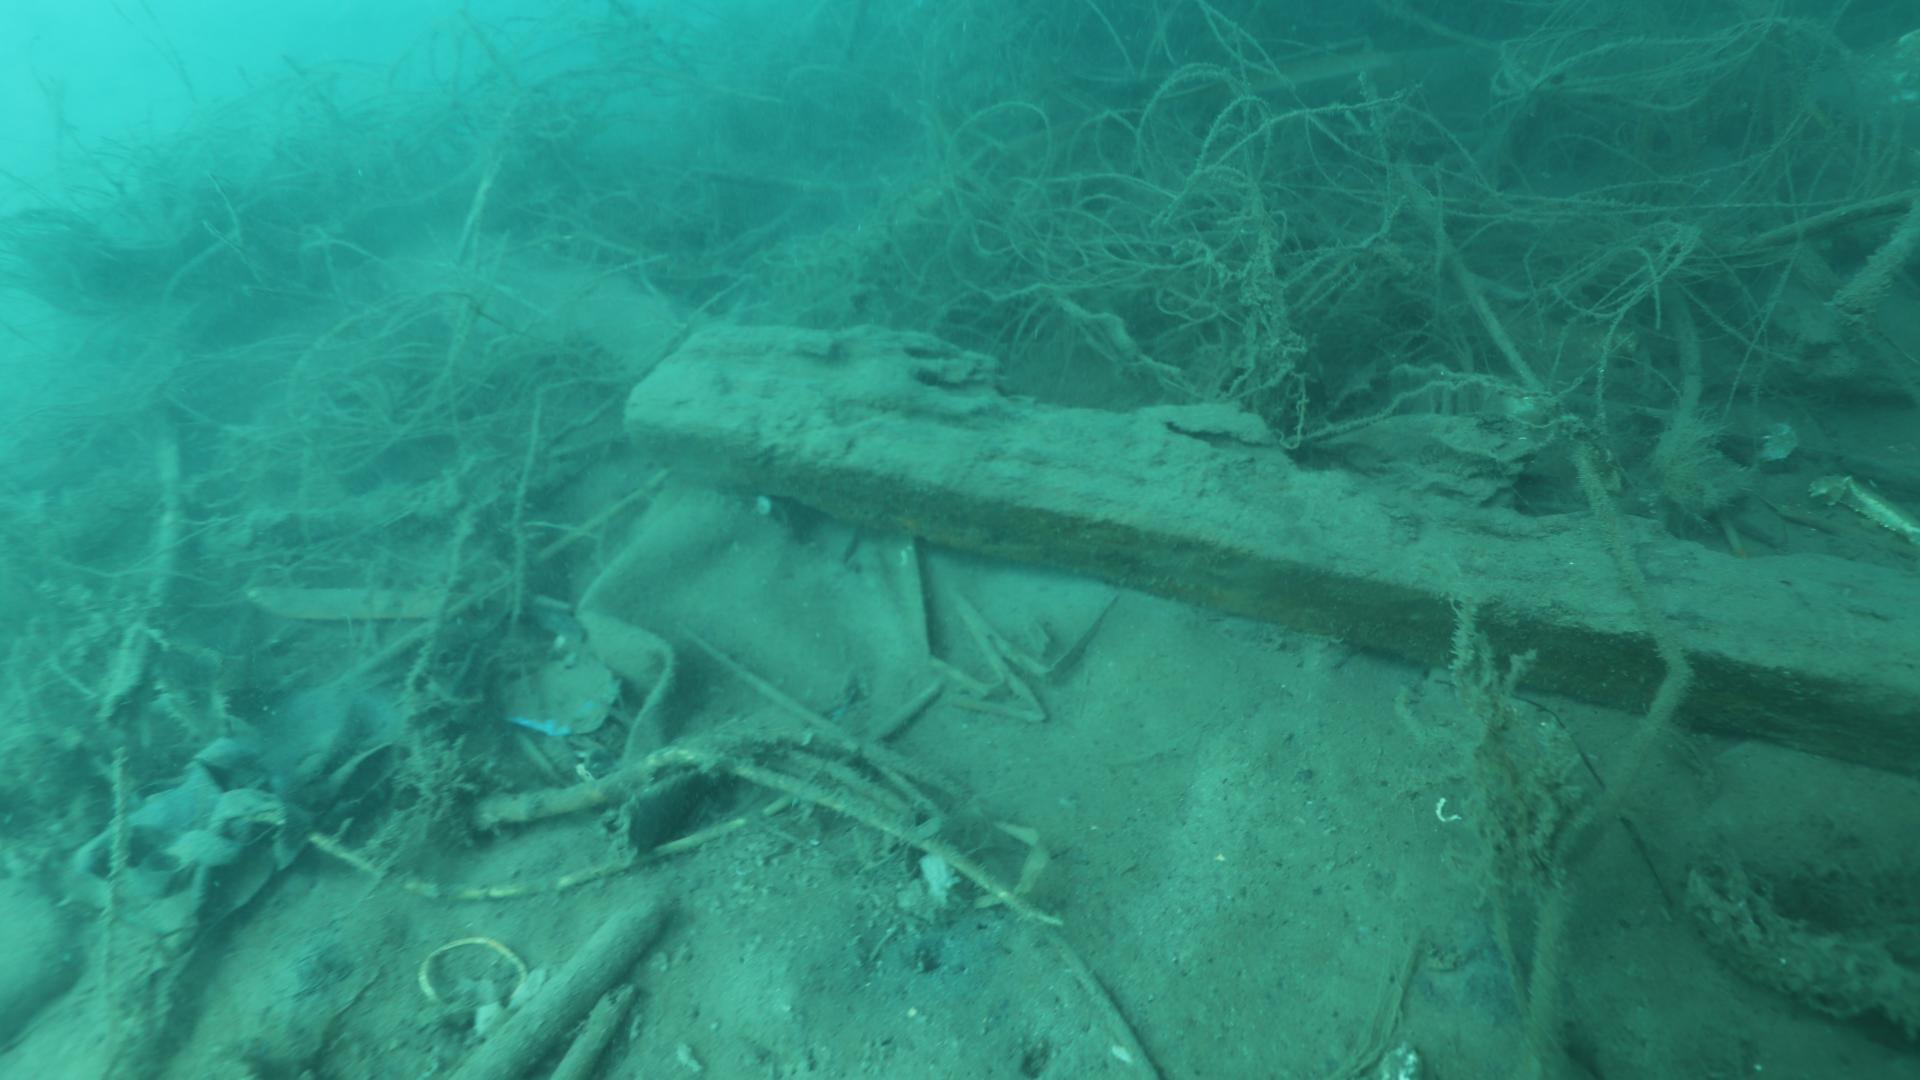wood: (620, 322, 1920, 785)
